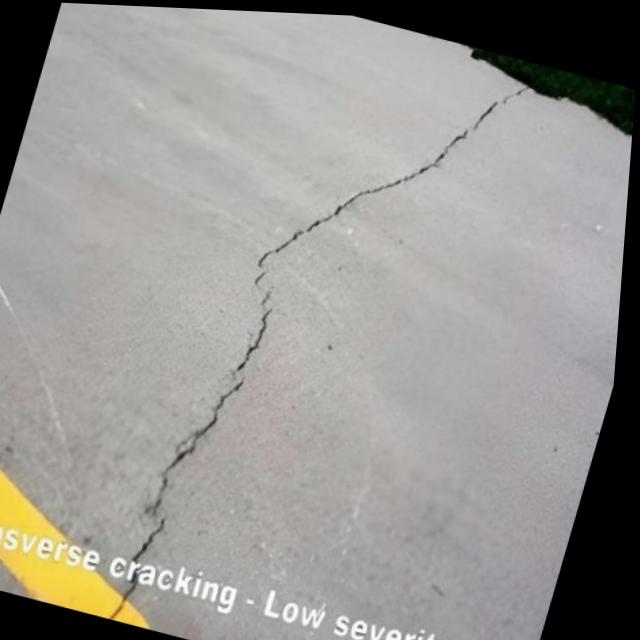Crack: (80, 307, 289, 640), (307, 42, 532, 267), (209, 175, 361, 376)
